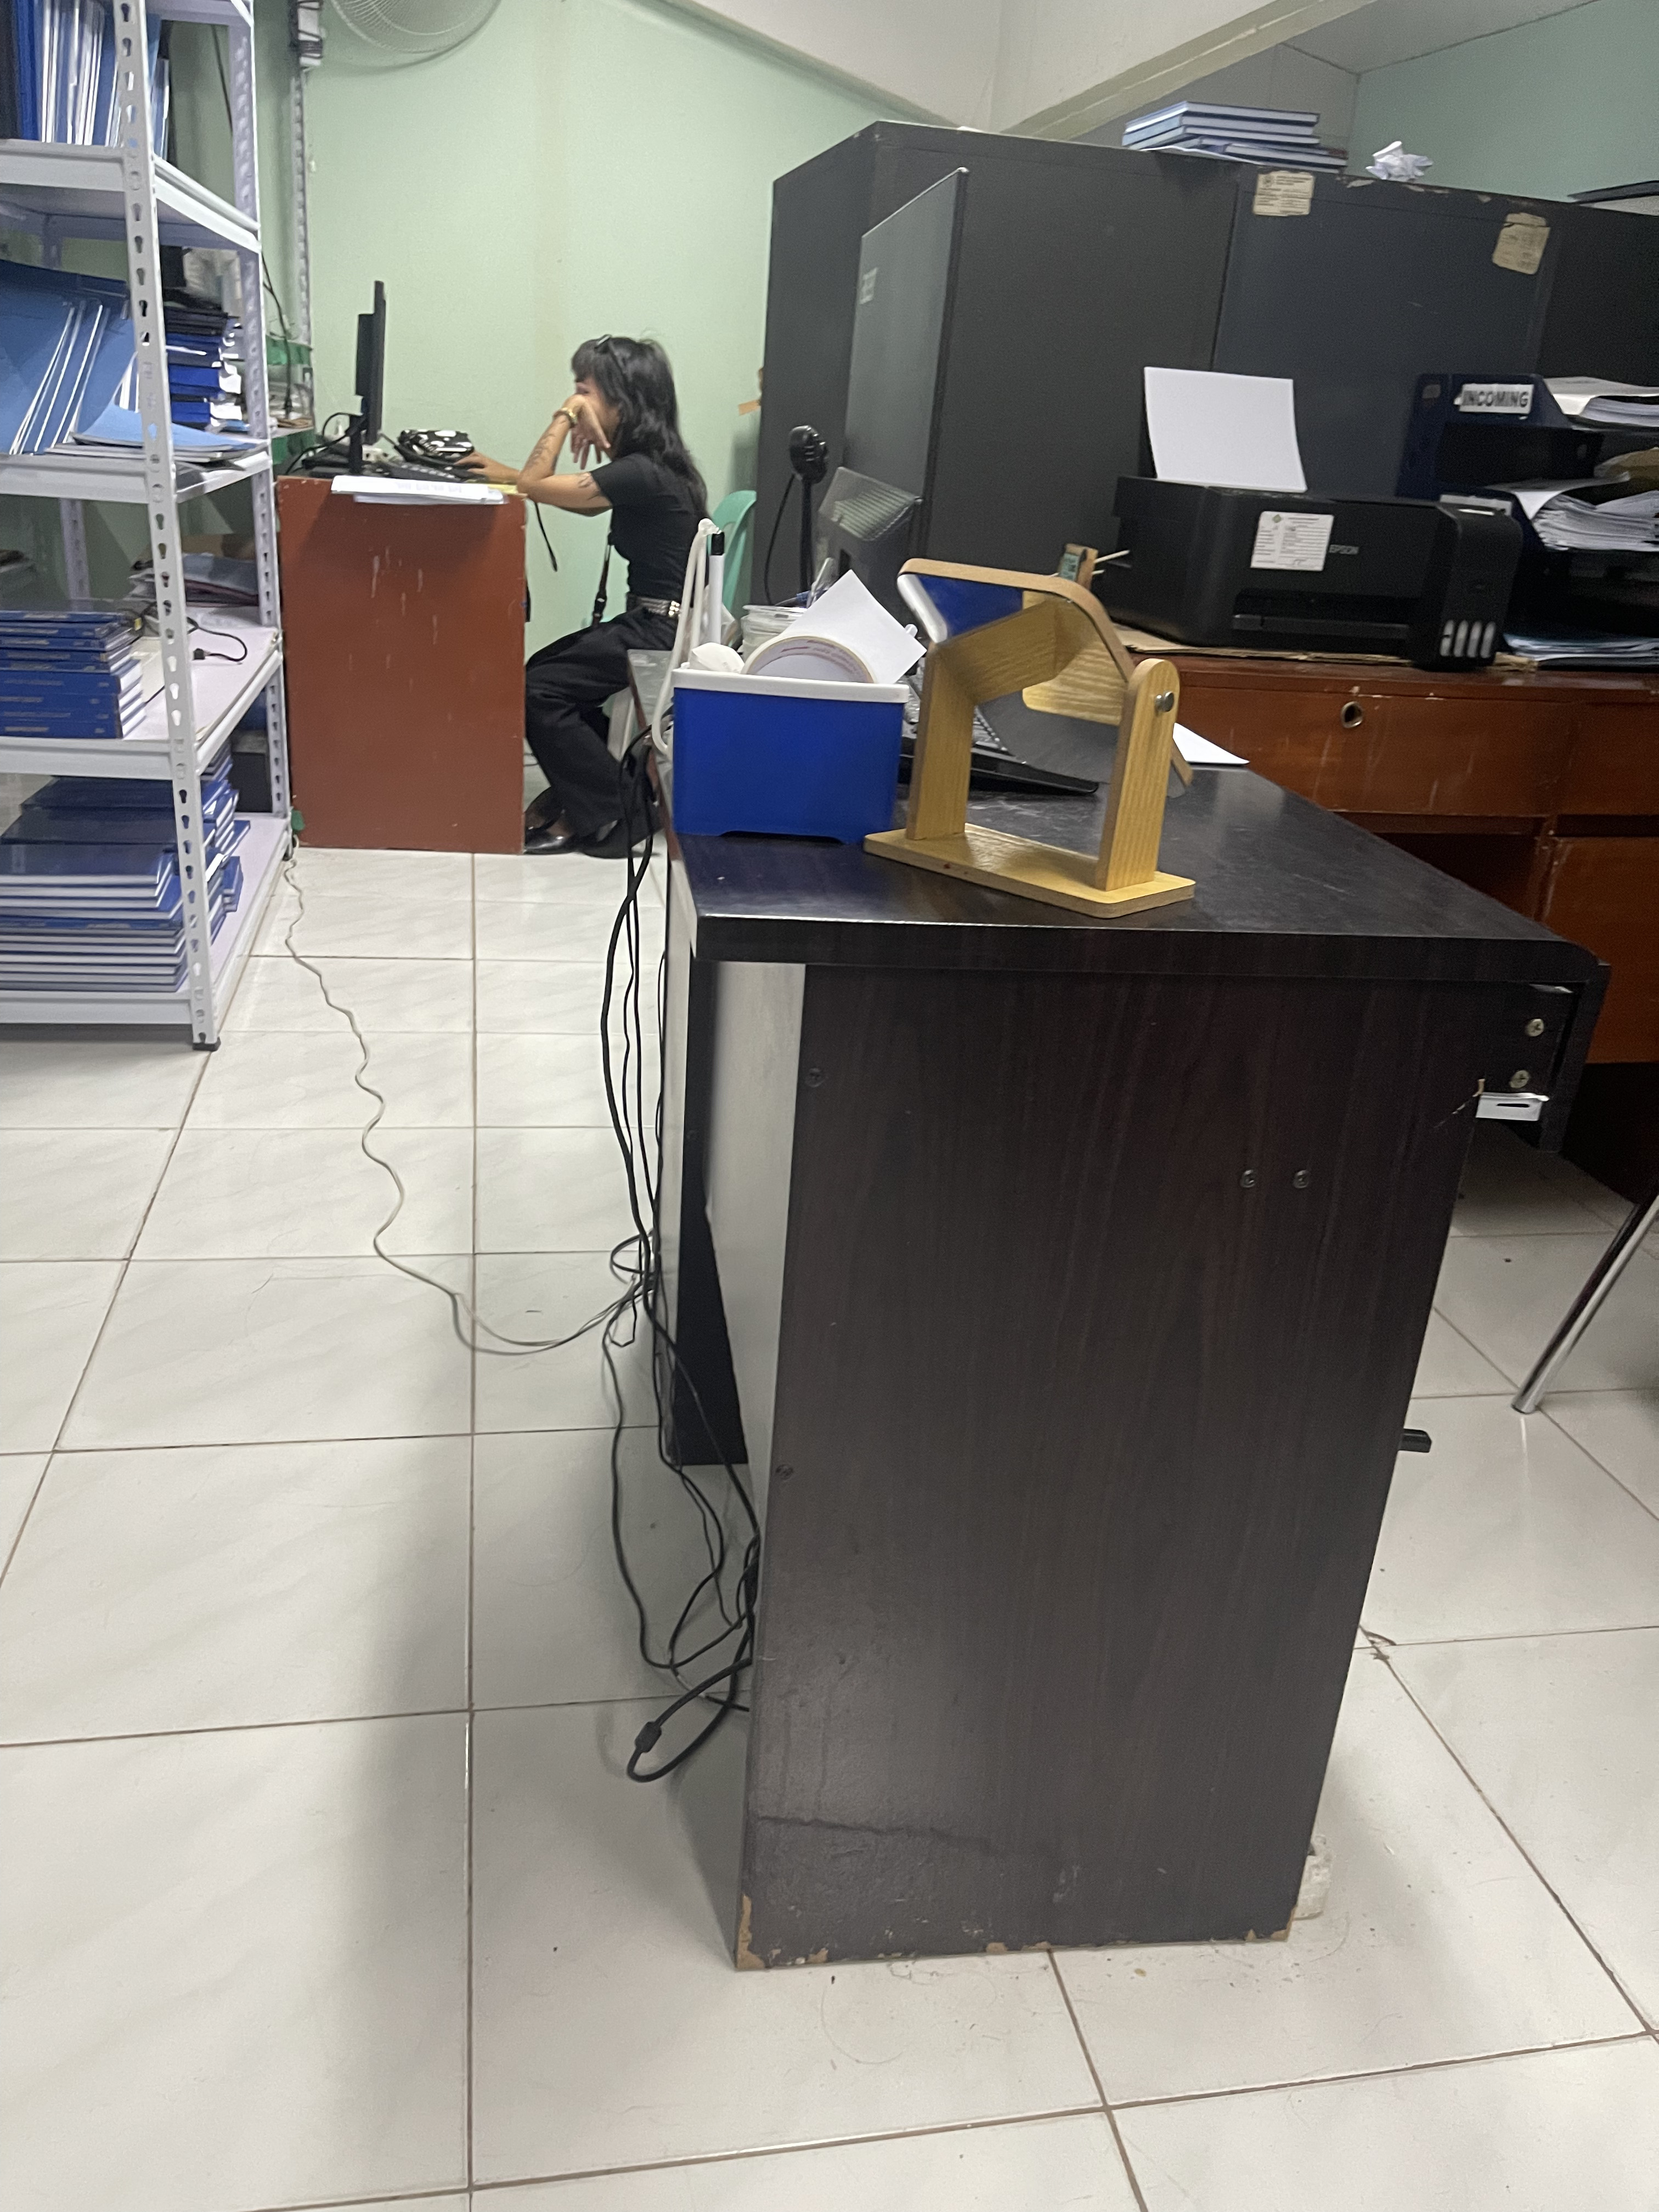table1: (582, 624, 1617, 1987)
